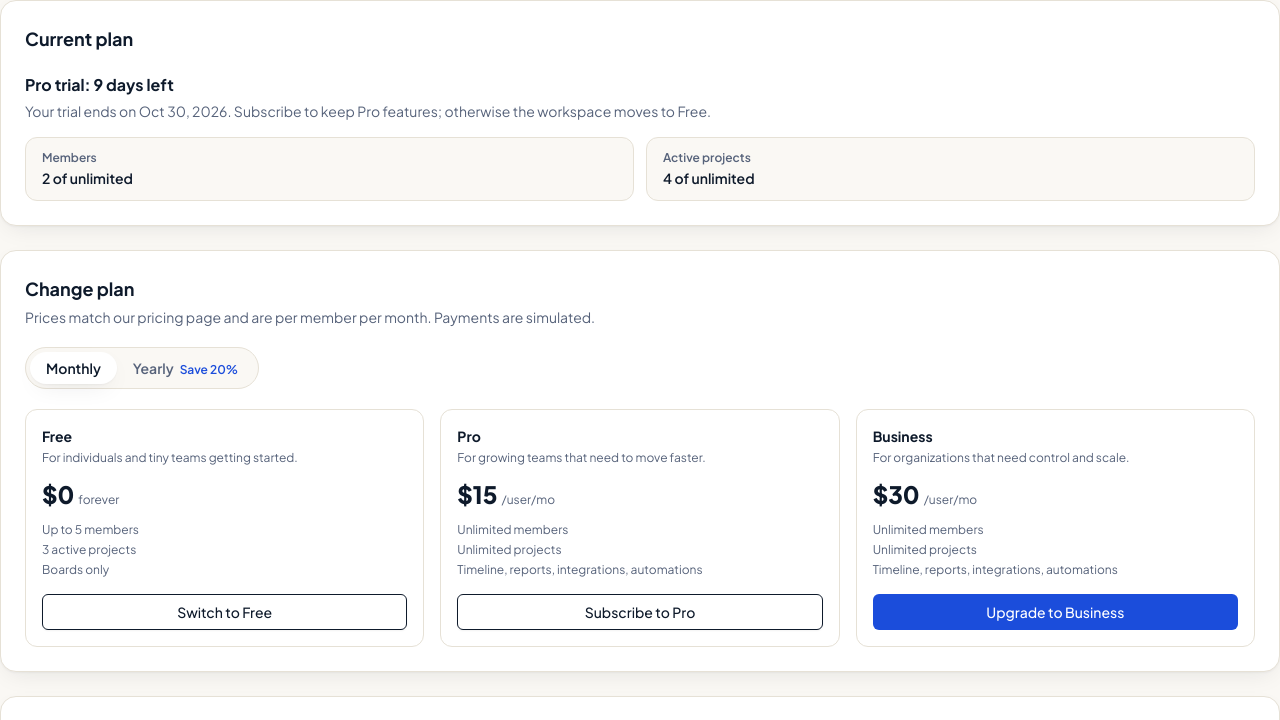
Scenario: BillingPanel › shows the current plan with trial days left and landing-page prices for the chosen period
Expected: the text "Pro trial: 9 days left" is shown, [25,74,174,95]
Expected: the text "$30" is shown, [873,478,920,510]
Click the radio button labelled "Yearly". click: (186, 368)
box: [117,352,254,384]
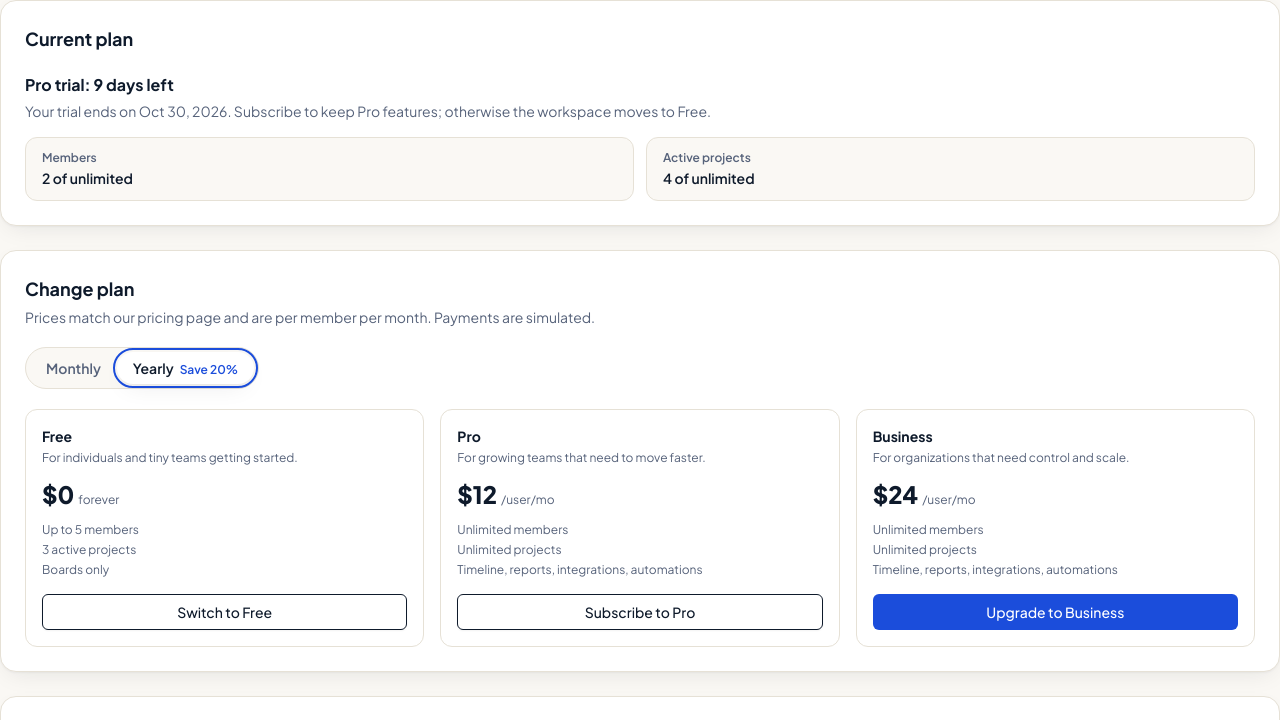
Expected: the text "$24" is shown, [873,478,918,510]
